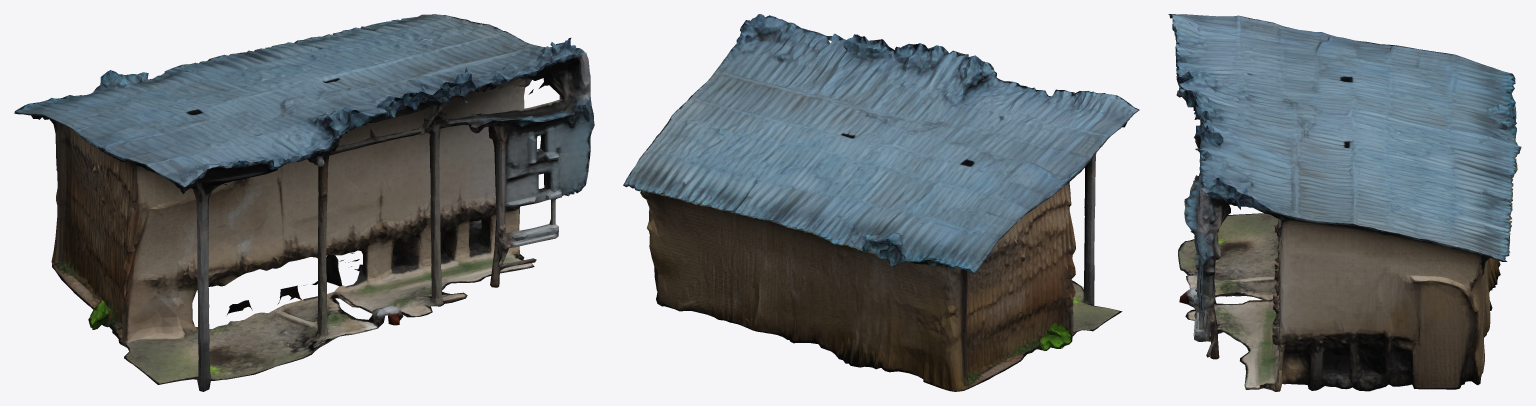
The model's file is papua-tengah.glb.
3 views of the same model, side by side, from view 1: azimuth 30°, elevation 25°; view 2: azimuth 150°, elevation 25°; view 3: azimuth 270°, elevation 25° (orthographic). The views are drawn at different scales.
Parts seen in each view (by area): view 1: world; view 2: world; view 3: world.
Part boxes in pixels (left/top/right/bottom): world: left=14, top=14, right=594, bottom=391; world: left=623, top=14, right=1139, bottom=391; world: left=1168, top=14, right=1521, bottom=391.
Size of the model in its own units: 0.679 by 0.3796 by 0.5007.
Materials: 1 (1 with a texture image).
